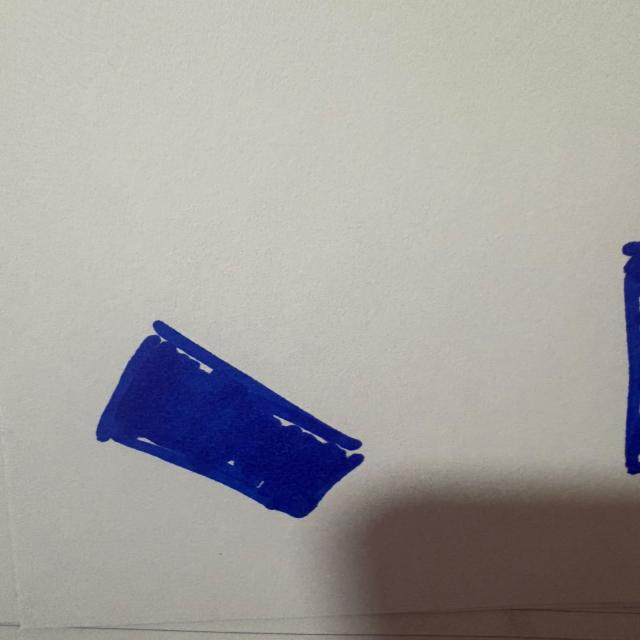Rectangle: (95, 320, 364, 518)
